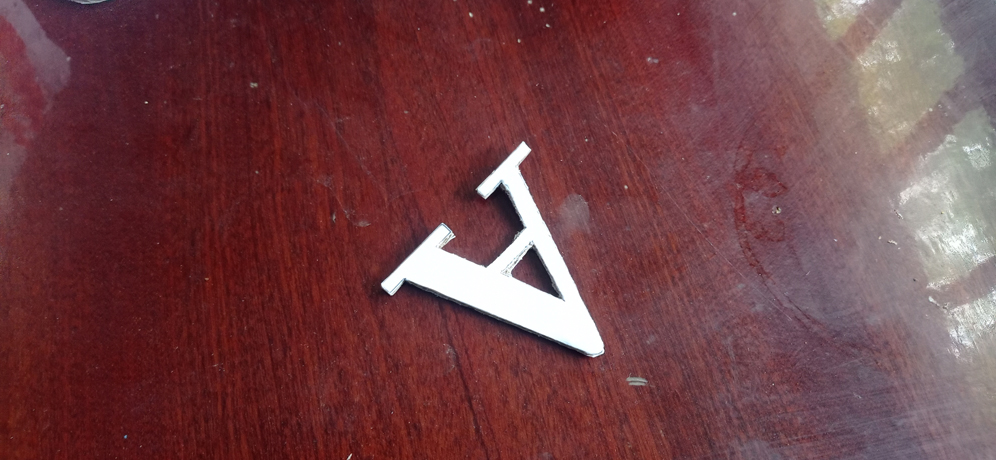a: (378, 138, 606, 359)
